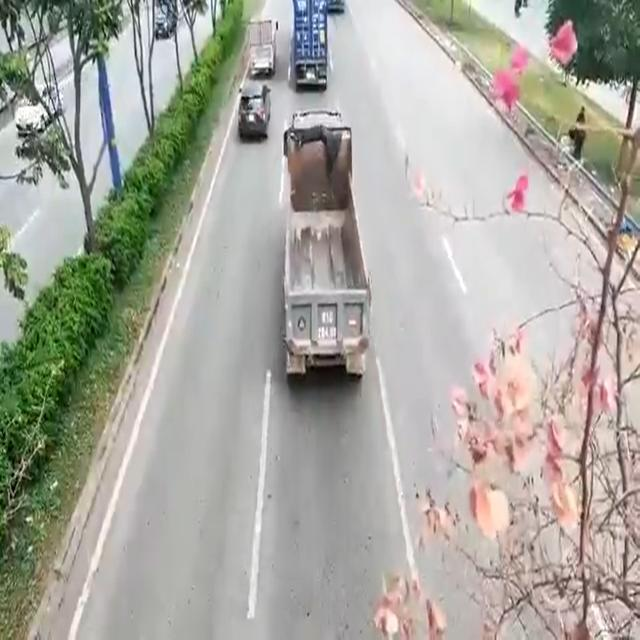car: (242, 82, 262, 136)
truck: (289, 114, 363, 382), (290, 2, 328, 86), (252, 17, 274, 72)
